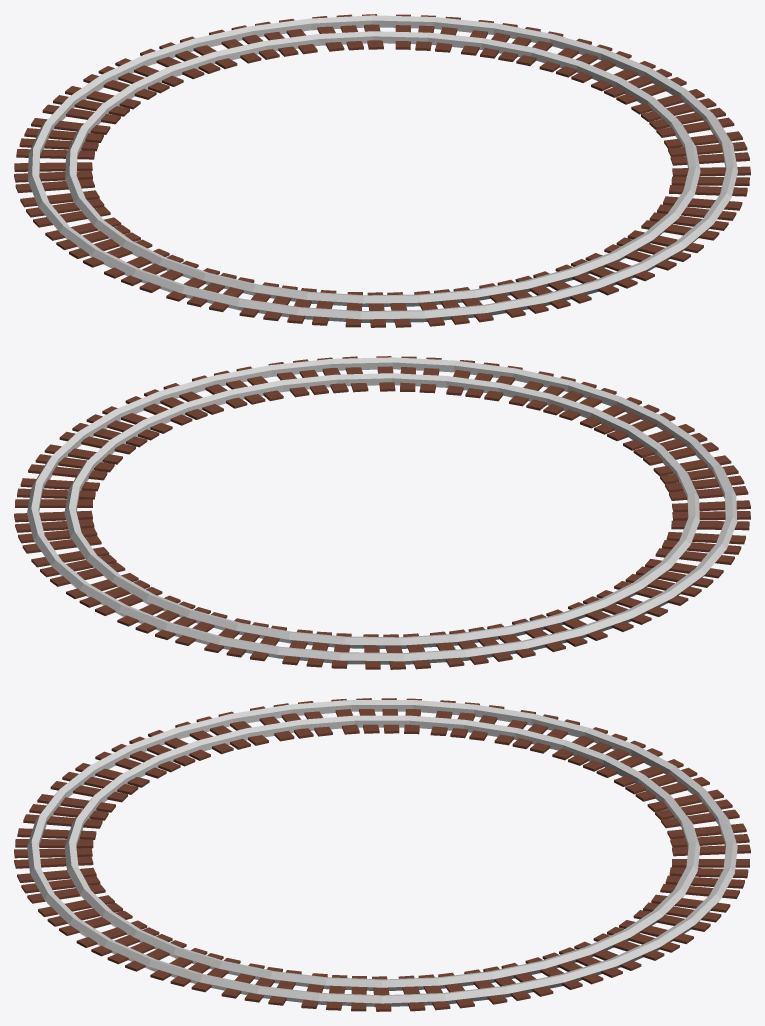
The model's file is train_track.glb.
3 views of the same model, one above another, from view 1: azimuth 30°, elevation 25°; view 2: azimuth 150°, elevation 25°; view 3: azimuth 270°, elevation 25° (orthographic).
Visible parts, largest first — view 1: train_track; view 2: train_track; view 3: train_track.
Part boxes in pixels (<box>): train_track: <box>14,14,750,327</box>; train_track: <box>14,356,750,669</box>; train_track: <box>14,698,750,1011</box>.
Size of the model in its own units: 10.42 by 0.1712 by 10.42.
Materials: 1 (1 with a texture image).
